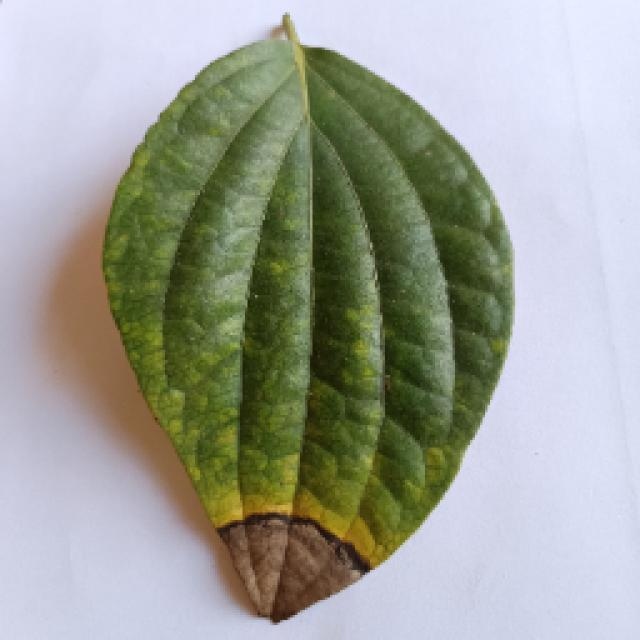footrot: (100, 25, 515, 620)
